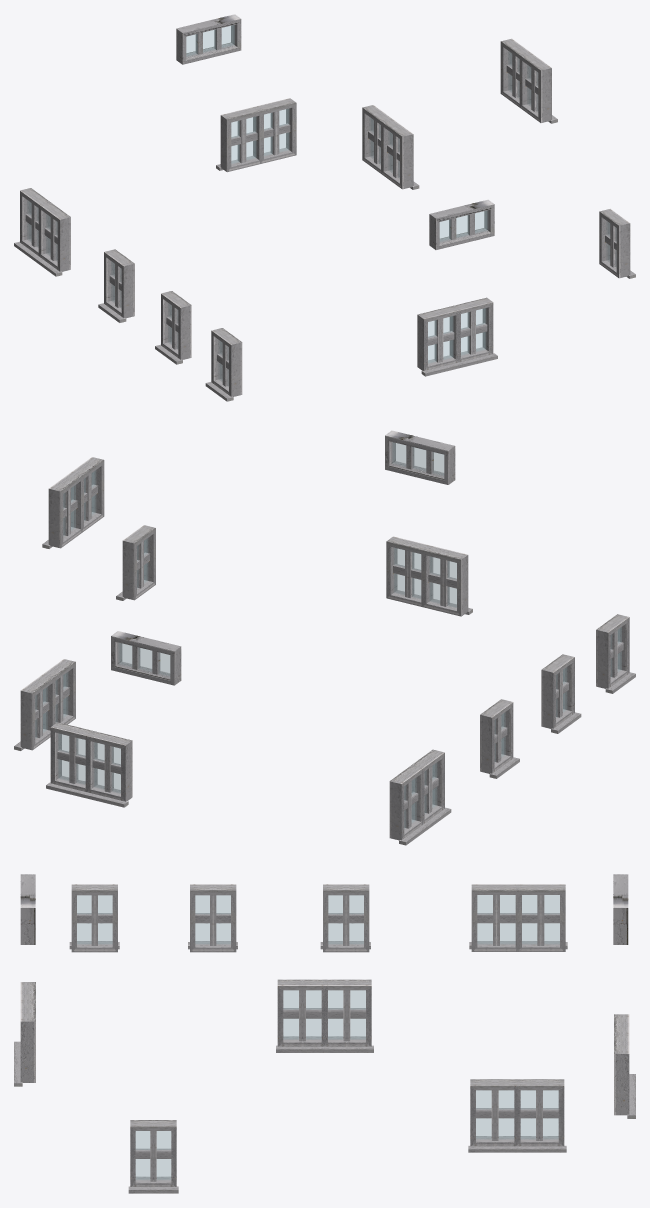
File: Window.glb
3 renders of one model, top to bottom at view 1: azimuth 30°, elevation 25°; view 2: azimuth 150°, elevation 25°; view 3: azimuth 270°, elevation 25°, orthographic. The views are drawn at different scales.
Visible parts, largest first — view 1: Windows; view 2: Windows; view 3: Windows.
Boxes of the visible parts, left/top/right/bottom form: Windows: left=14, top=14, right=635, bottom=401; Windows: left=14, top=430, right=635, bottom=845; Windows: left=14, top=874, right=635, bottom=1193.
Size of the model in its own units: 97.88 by 36.11 by 104.
Materials: 14 (13 with a texture image).
